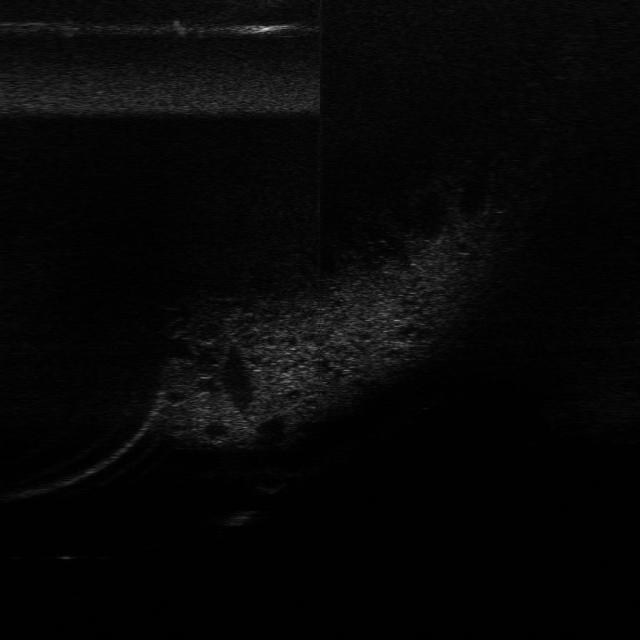cube: (253, 472, 293, 494)
cylinder: (216, 506, 258, 526)
